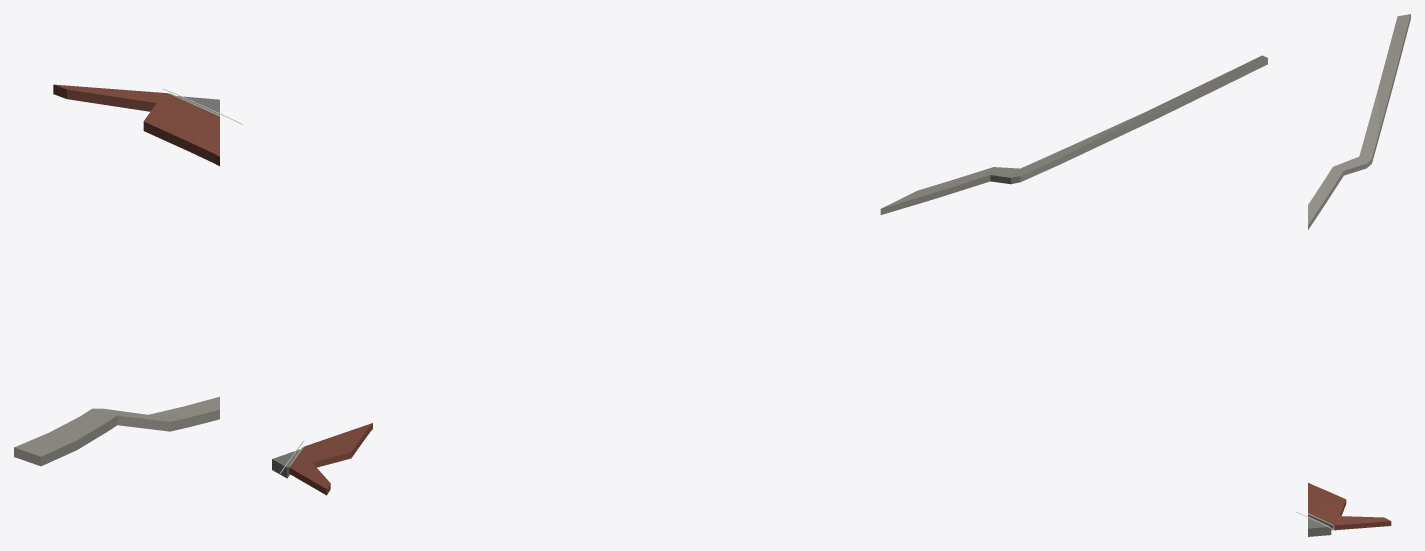
3 views of the same model, side by side, from view 1: azimuth 90°, elevation 25°; view 2: azimuth 210°, elevation 25°; view 3: azimuth 270°, elevation 25° (orthographic). The views are drawn at different scales.
Bounding box in the file's own units: 108 × 25.83 × 15.05.
